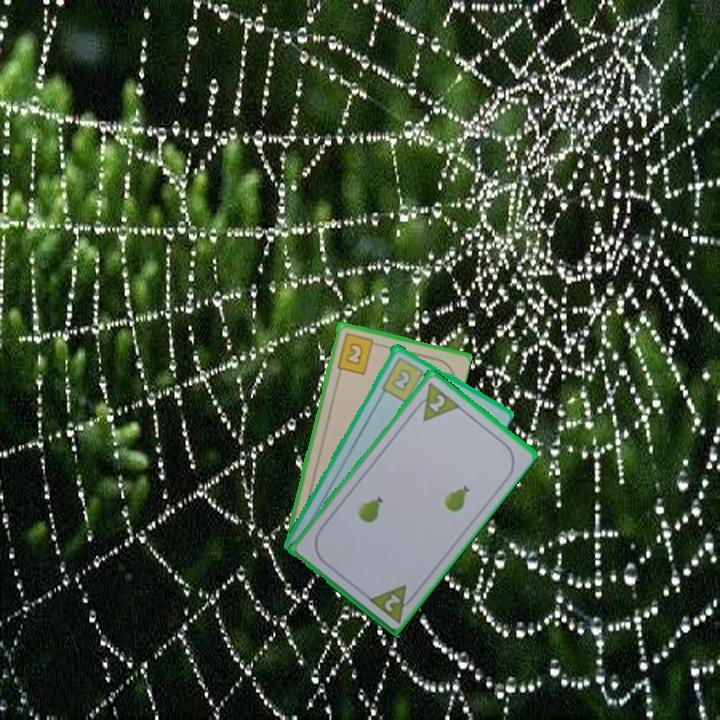2b: (378, 353, 431, 404), (333, 329, 382, 377)
2p: (409, 378, 462, 424), (364, 581, 419, 625)
